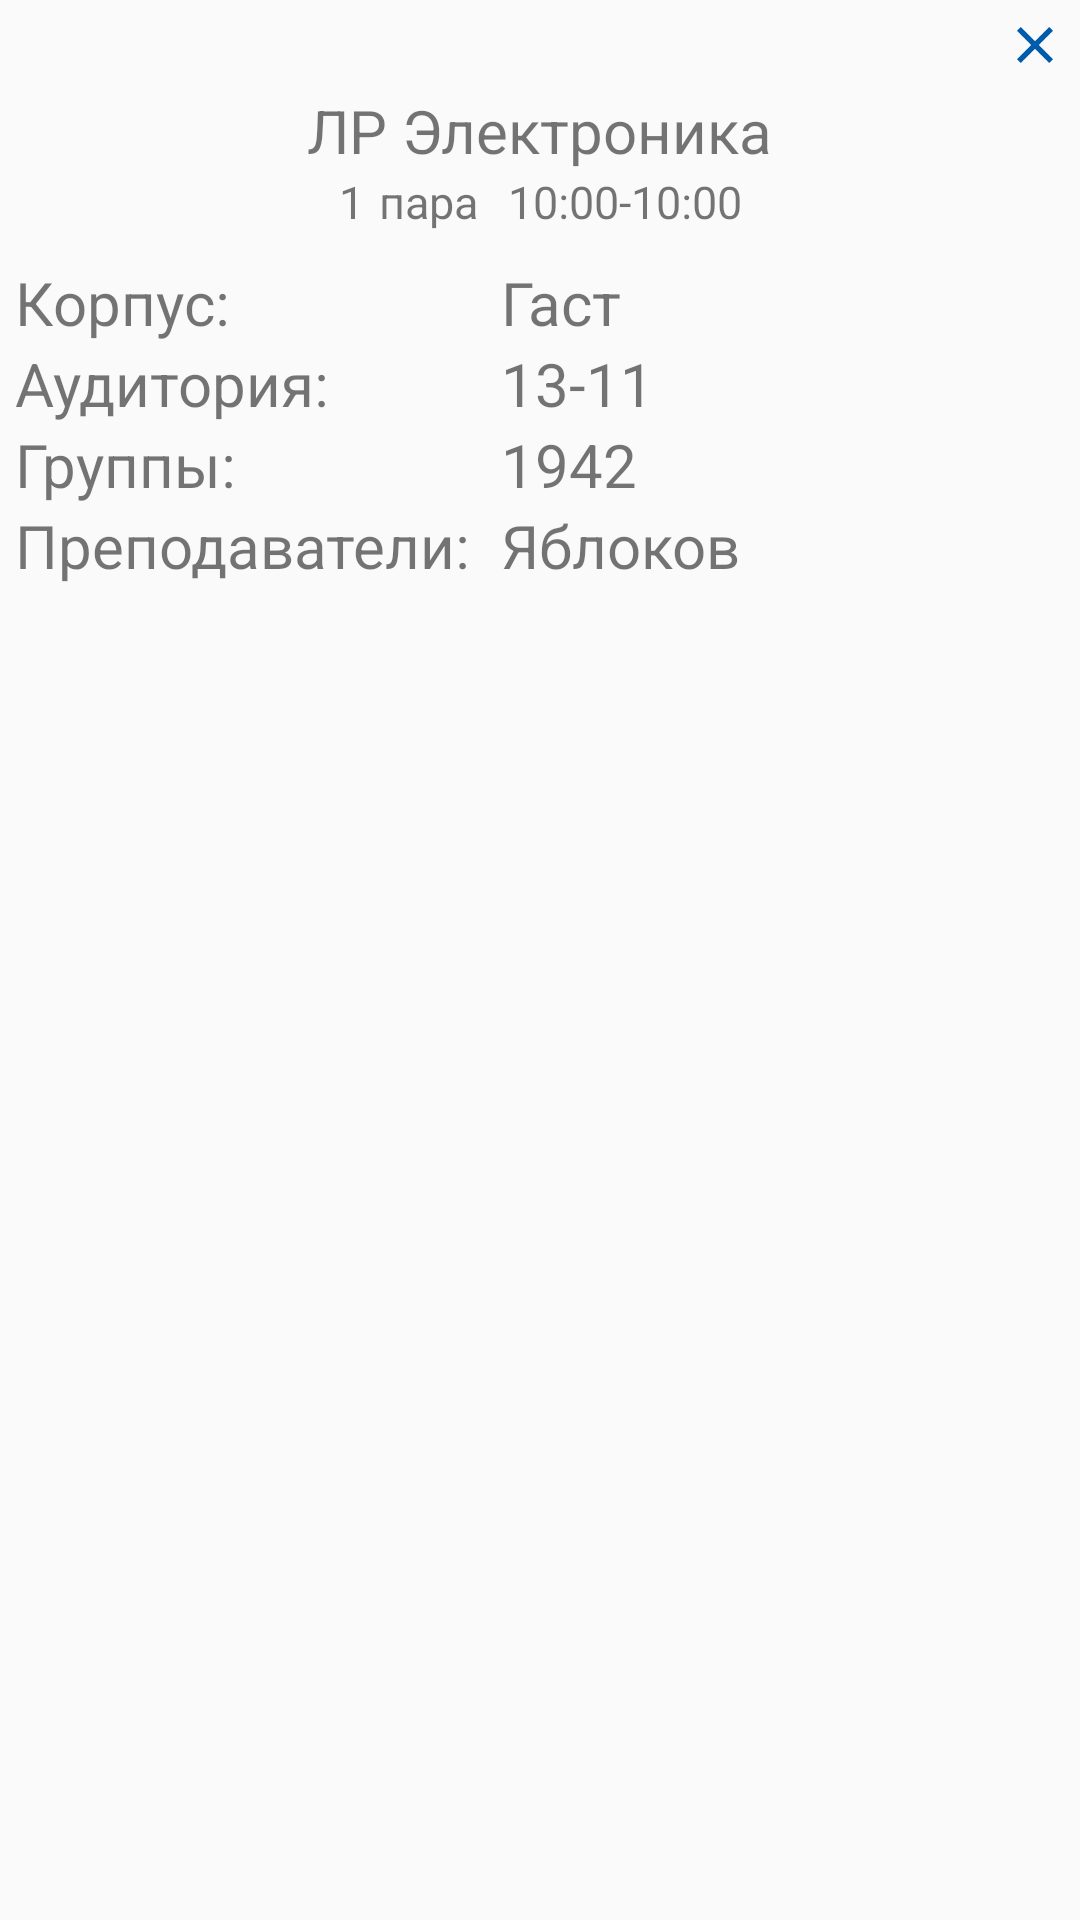

Named icons in this screenshot (1080x1920) and their bounding boxes, (x1, y1, x2, y2):
close: (1017, 27, 1053, 63)
